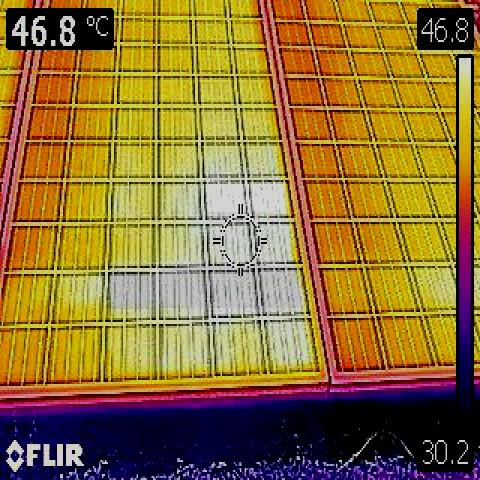fault: (161, 266, 299, 308), (206, 182, 286, 212), (108, 271, 150, 309)
